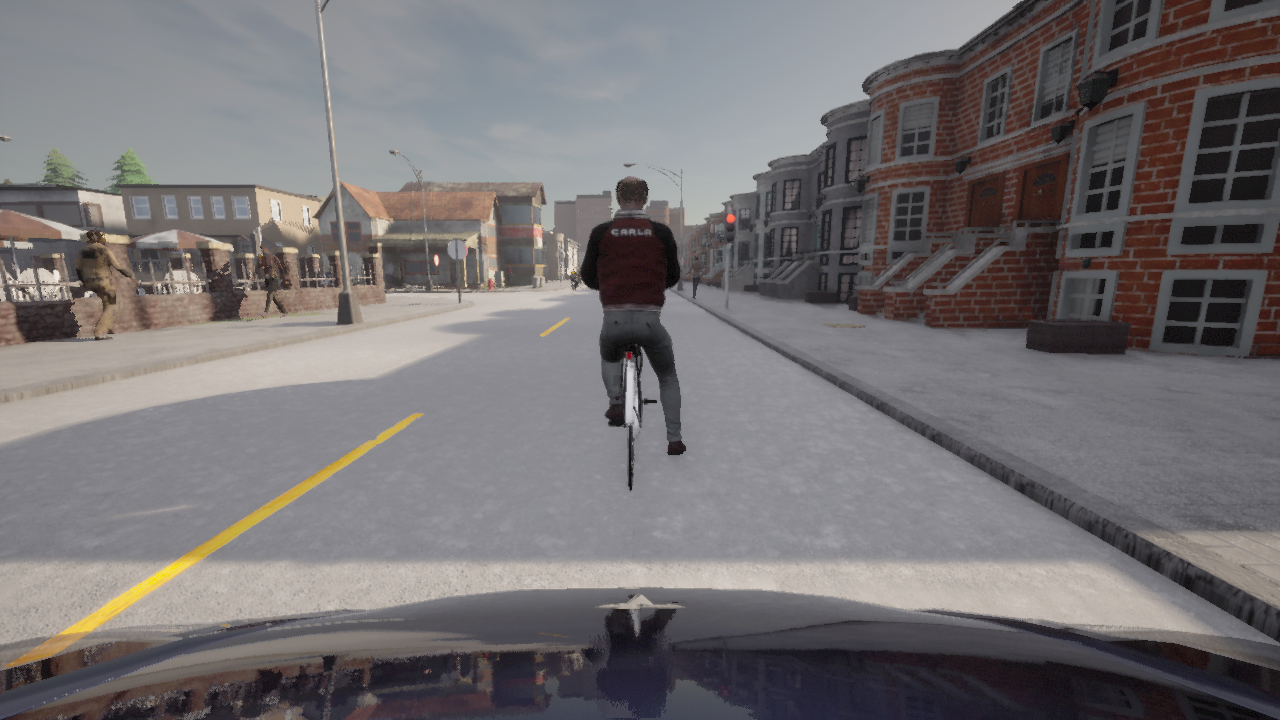cyclist: (0, 588, 1279, 719), (608, 345, 657, 490), (566, 274, 578, 292), (637, 345, 639, 356)
pedestrian: (74, 229, 138, 340), (250, 243, 287, 318), (689, 256, 702, 299), (505, 263, 513, 288)
